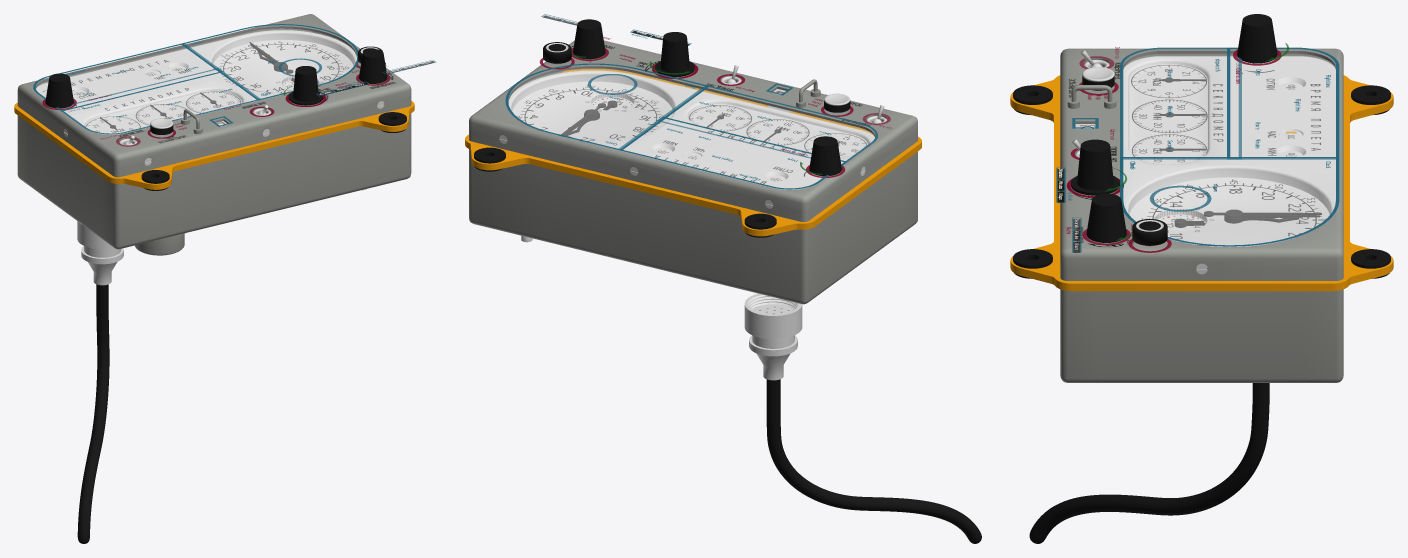
File: SoyuzElectroMechanicalSpaceClock.glb
3 views of the same model, side by side, from view 1: azimuth 30°, elevation 25°; view 2: azimuth 150°, elevation 25°; view 3: azimuth 270°, elevation 25° (orthographic). The views are drawn at different scales.
Visible parts, largest first — view 1: bottom_cap, top_cap_glass, plate_face, top_cap, flipped_plate, cable, connector_plug, time_adjust, time_set_overlay, device_overlay, chronometer_overlay, mission_timer_overlay (+5 smaller); view 2: bottom_cap, top_cap_glass, plate_face, top_cap, flipped_plate, cable, connector_plug.001, device_overlay, connector_plug, time_adjust, chronometer_overlay, time_set_overlay (+4 smaller); view 3: top_cap_glass, plate_face, bottom_cap, top_cap, flipped_plate, cable, device_overlay, time_adjust, time_set_overlay, clear_to_zero_nob, alarm_adjust_nob, chronometer_overlay (+10 smaller).
Part boxes in pixels (x1=…): bottom_cap: x1=17, y1=113, x2=411, y2=249; top_cap_glass: x1=36, y1=28, x2=356, y2=134; plate_face: x1=36, y1=30, x2=356, y2=134; top_cap: x1=17, y1=14, x2=411, y2=177; flipped_plate: x1=14, y1=68, x2=414, y2=189; cable: x1=77, y1=284, x2=109, y2=543; connector_plug: x1=81, y1=246, x2=123, y2=285; time_adjust: x1=288, y1=66, x2=323, y2=105; time_set_overlay: x1=33, y1=24, x2=358, y2=110; device_overlay: x1=33, y1=58, x2=389, y2=146; chronometer_overlay: x1=57, y1=68, x2=260, y2=138; mission_timer_overlay: x1=33, y1=43, x2=326, y2=110; bottom_cap: x1=469, y1=149, x2=917, y2=304; top_cap_glass: x1=508, y1=68, x2=874, y2=189; plate_face: x1=508, y1=70, x2=874, y2=189; top_cap: x1=469, y1=40, x2=917, y2=221; flipped_plate: x1=465, y1=68, x2=921, y2=236; cable: x1=766, y1=379, x2=981, y2=543; connector_plug.001: x1=744, y1=293, x2=802, y2=339; device_overlay: x1=511, y1=48, x2=891, y2=189; connector_plug: x1=749, y1=304, x2=797, y2=380; time_adjust: x1=655, y1=32, x2=694, y2=77; chronometer_overlay: x1=657, y1=83, x2=877, y2=165; time_set_overlay: x1=506, y1=55, x2=844, y2=189; top_cap_glass: x1=1123, y1=54, x2=1335, y2=246; plate_face: x1=1123, y1=56, x2=1335, y2=247; bottom_cap: x1=1060, y1=289, x2=1343, y2=382; top_cap: x1=1060, y1=48, x2=1343, y2=280; flipped_plate: x1=1010, y1=75, x2=1393, y2=291; cable: x1=1029, y1=383, x2=1269, y2=543; device_overlay: x1=1067, y1=47, x2=1338, y2=252; time_adjust: x1=1071, y1=139, x2=1119, y2=195; time_set_overlay: x1=1067, y1=47, x2=1339, y2=246; clear_to_zero_nob: x1=1237, y1=14, x2=1277, y2=63; alarm_adjust_nob: x1=1086, y1=193, x2=1126, y2=242; chronometer_overlay: x1=1072, y1=47, x2=1241, y2=159.
Size of what is drawn, in the model's own units: 0.1918 by 0.1978 by 0.1216.
35 materials, 12 textured.
